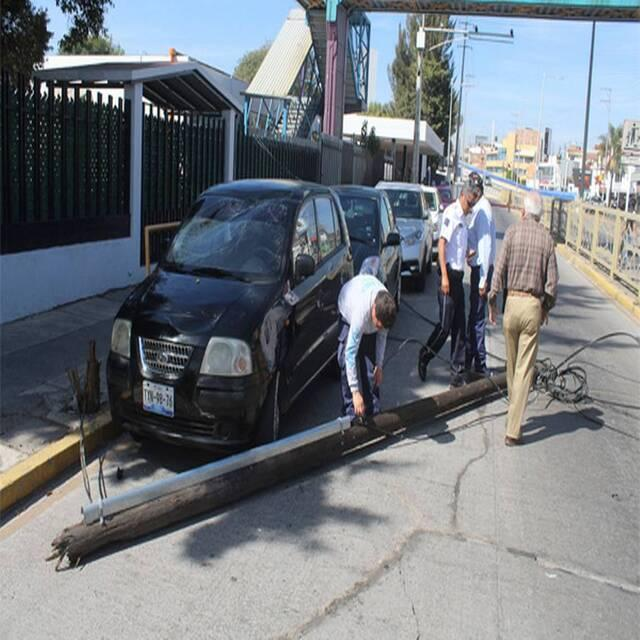Inclined Pole: (54, 354, 557, 571)
